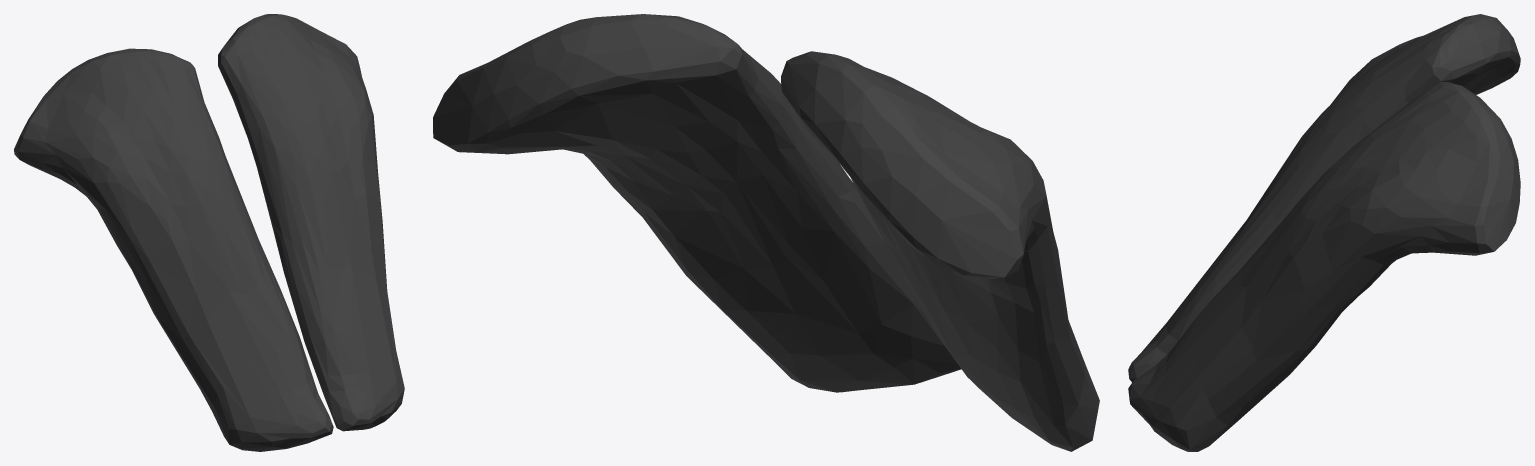
Rendered from m_rectus_capitis_ventralis.glb.
The picture shows the model from 3 angles, left to right: view 1: azimuth 30°, elevation 25°; view 2: azimuth 150°, elevation 25°; view 3: azimuth 270°, elevation 25°; orthographic projection. The views are drawn at different scales.
Parts seen in each view (by area): view 1: m_rectus_capitis_ventralis; view 2: m_rectus_capitis_ventralis; view 3: m_rectus_capitis_ventralis.
Part boxes in pixels (x1=…): m_rectus_capitis_ventralis: x1=14, y1=14, x2=404, y2=451; m_rectus_capitis_ventralis: x1=433, y1=14, x2=1099, y2=451; m_rectus_capitis_ventralis: x1=1128, y1=14, x2=1520, y2=451.
Size of the model in its own units: 0.000602 by 0.000522 by 0.000523.
Materials: 1 (1 with a texture image).
